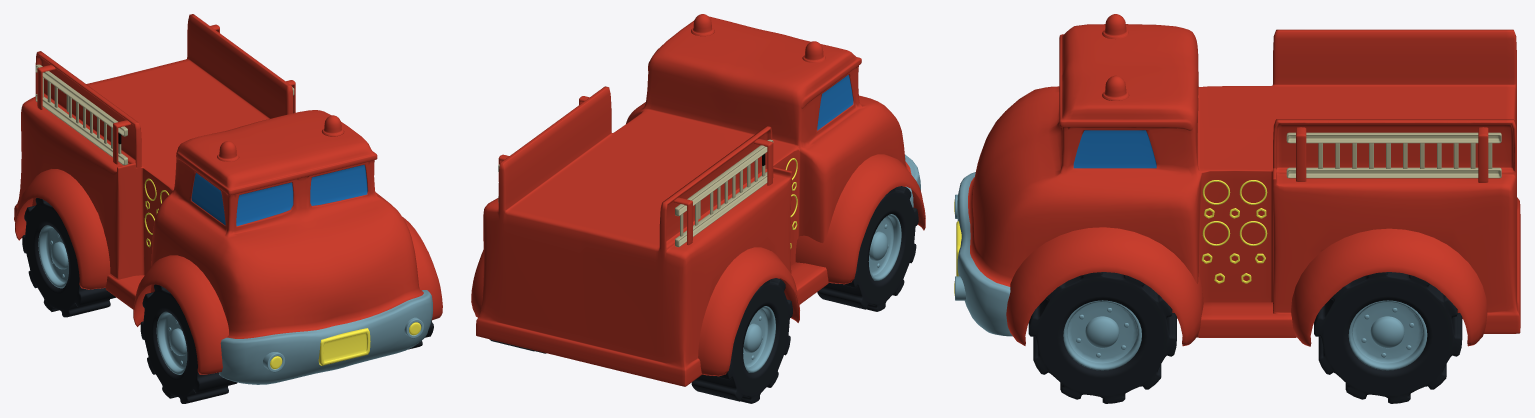
The model's file is firetruck.fbx.
The picture shows the model from 3 angles, left to right: view 1: azimuth 30°, elevation 25°; view 2: azimuth 150°, elevation 25°; view 3: azimuth 270°, elevation 25°; orthographic projection. The views are drawn at different scales.
Parts seen in each view (by area): view 1: models_f19:models_f18:models_f17:models_f16:models_f15:model (×8), polySurface254, polySurface244; view 2: models_f19:models_f18:models_f17:models_f16:models_f15:model (×8), polySurface244, polySurface254; view 3: models_f19:models_f18:models_f17:models_f16:models_f15:model (×10), polySurface294, polySurface304.
Boxes of the visible parts, bbox=[...] form: models_f19:models_f18:models_f17:models_f16:models_f15:model (×8): bbox=[14, 14, 442, 384]; polySurface254: bbox=[140, 284, 237, 403]; polySurface244: bbox=[22, 198, 115, 317]; models_f19:models_f18:models_f17:models_f16:models_f15:model (×8): bbox=[471, 14, 925, 386]; polySurface244: bbox=[691, 278, 792, 403]; polySurface254: bbox=[817, 186, 918, 311]; models_f19:models_f18:models_f17:models_f16:models_f15:model (×10): bbox=[957, 14, 1520, 346]; polySurface294: bbox=[1314, 272, 1462, 403]; polySurface304: bbox=[1028, 272, 1176, 403].
Size of the model in its own units: 11.46 by 10.7 by 19.03.
